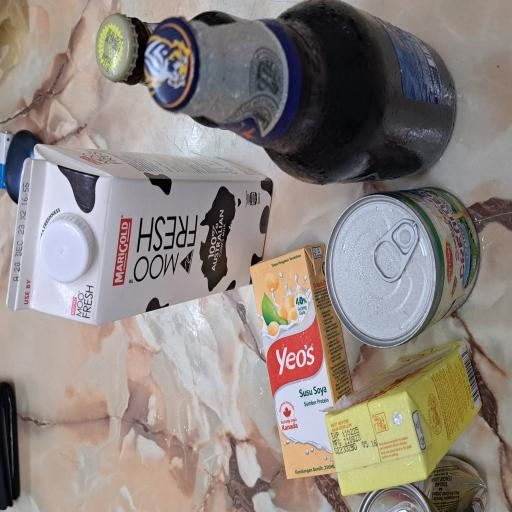can: (122, 433, 243, 512)
drink carton: (140, 8, 278, 365), (23, 332, 202, 472), (11, 434, 129, 512)
glass bottle: (242, 192, 383, 512), (287, 124, 376, 335)
plastic bottle cap: (172, 53, 225, 128)
pop tab: (171, 494, 220, 512)
